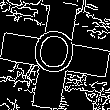O_S: (29, 26, 81, 84)
